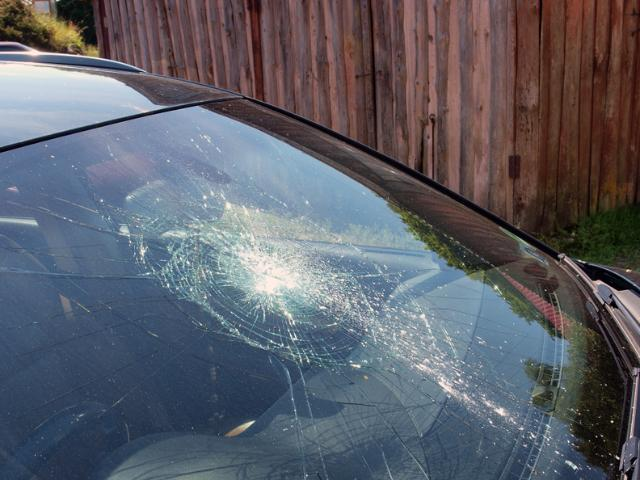Windshield: (104, 146, 480, 480)
